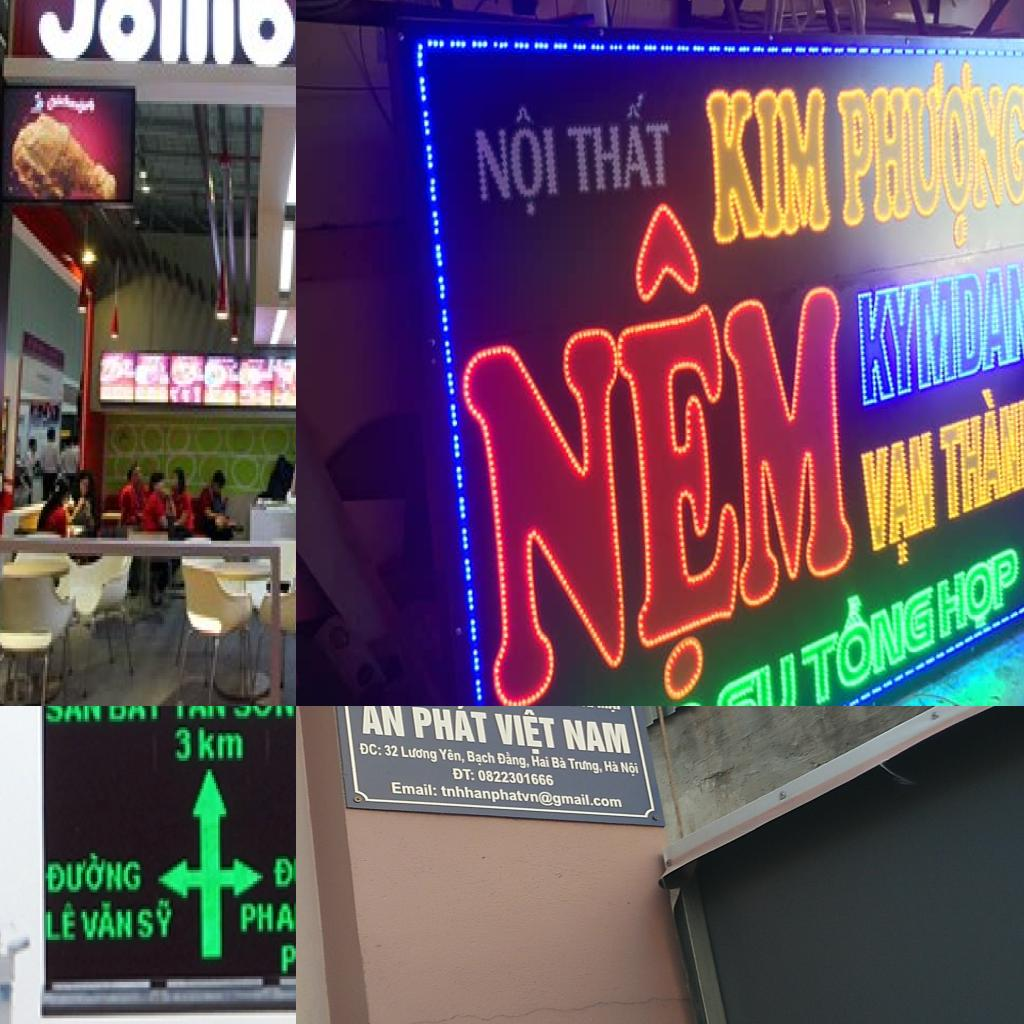text: (440, 165, 861, 706), (829, 62, 1024, 264), (850, 261, 1024, 406), (697, 83, 836, 247), (795, 547, 938, 706), (33, 0, 296, 79), (932, 377, 1024, 522), (556, 92, 675, 202), (856, 430, 942, 578), (468, 107, 564, 221), (933, 539, 1024, 653), (710, 647, 799, 706), (44, 853, 146, 895), (492, 707, 561, 757), (409, 706, 491, 745), (173, 728, 249, 766), (561, 718, 632, 756), (79, 898, 136, 945), (238, 898, 296, 937), (136, 898, 177, 945), (44, 898, 81, 945), (360, 706, 407, 739), (45, 706, 105, 730), (476, 769, 556, 787), (232, 706, 296, 724), (105, 706, 166, 724), (170, 706, 228, 724), (273, 847, 296, 892), (388, 780, 439, 797), (401, 746, 438, 764), (496, 752, 532, 770), (566, 758, 604, 774), (466, 750, 496, 768), (438, 747, 466, 765), (358, 741, 383, 757), (450, 767, 476, 782), (619, 761, 641, 777), (531, 755, 551, 769), (550, 756, 568, 770), (383, 744, 400, 758), (594, 706, 622, 714), (603, 760, 619, 774)
